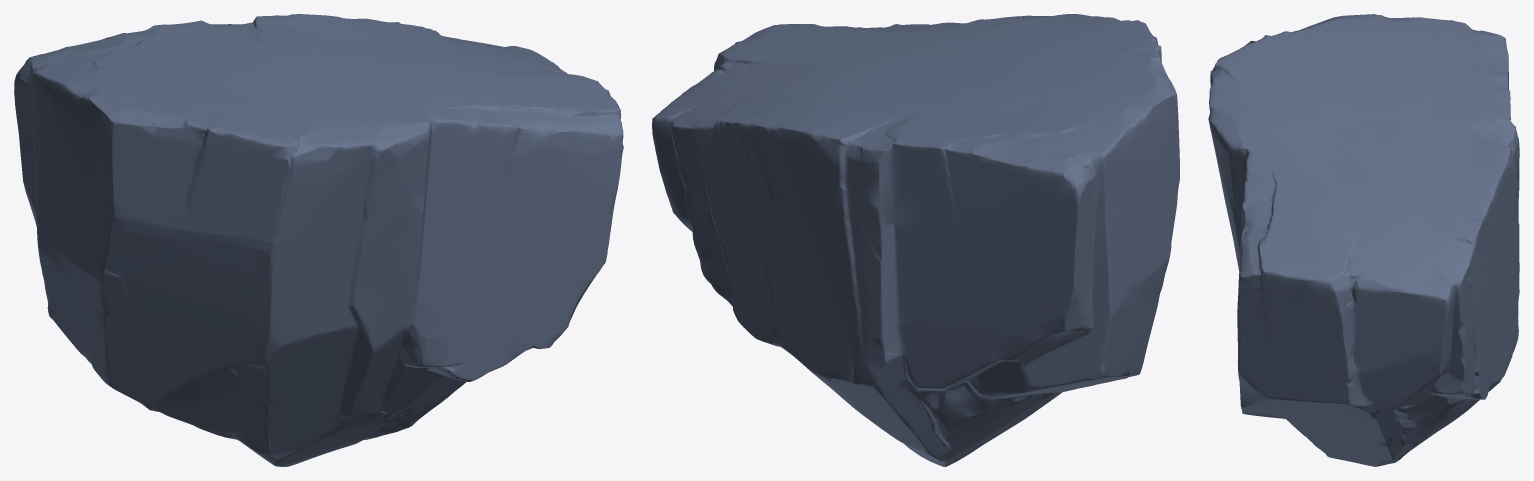
3 views of the same model, side by side, from view 1: azimuth 30°, elevation 25°; view 2: azimuth 150°, elevation 25°; view 3: azimuth 270°, elevation 25° (orthographic). The views are drawn at different scales.
Visible parts, largest first — view 1: SM_GF_Cliff_Top_03_LOD0; view 2: SM_GF_Cliff_Top_03_LOD0; view 3: SM_GF_Cliff_Top_03_LOD0.
Boxes of the visible parts, x1=… form: SM_GF_Cliff_Top_03_LOD0: x1=14, y1=14, x2=623, y2=466; SM_GF_Cliff_Top_03_LOD0: x1=652, y1=14, x2=1179, y2=466; SM_GF_Cliff_Top_03_LOD0: x1=1208, y1=14, x2=1519, y2=466.
Size of the model in its own units: 23.09 by 19.19 by 15.
